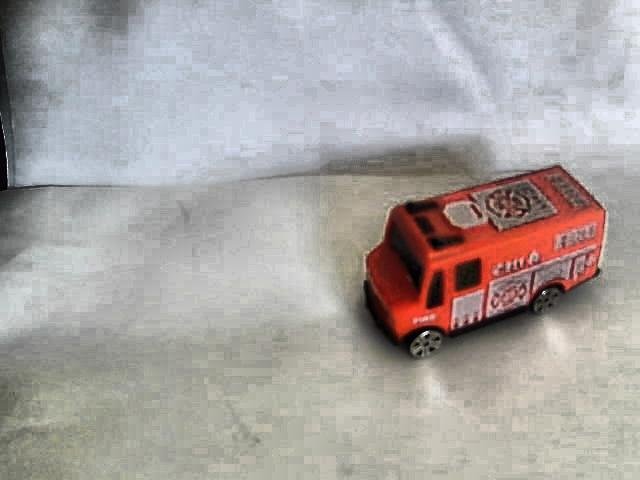fire_truck: (343, 154, 614, 361), (364, 240, 417, 332)
